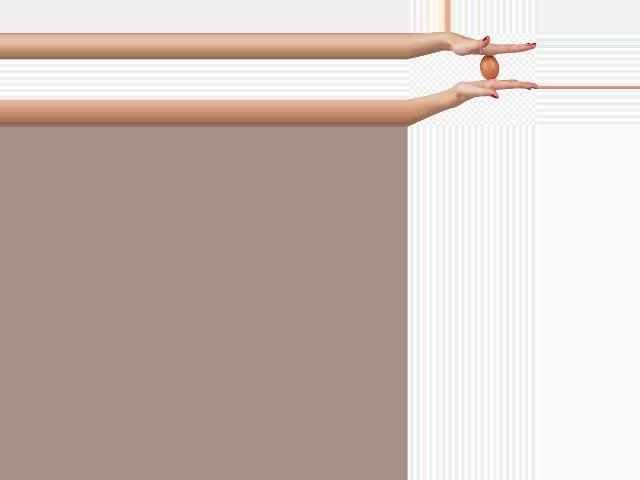egg: (479, 56, 498, 80)
